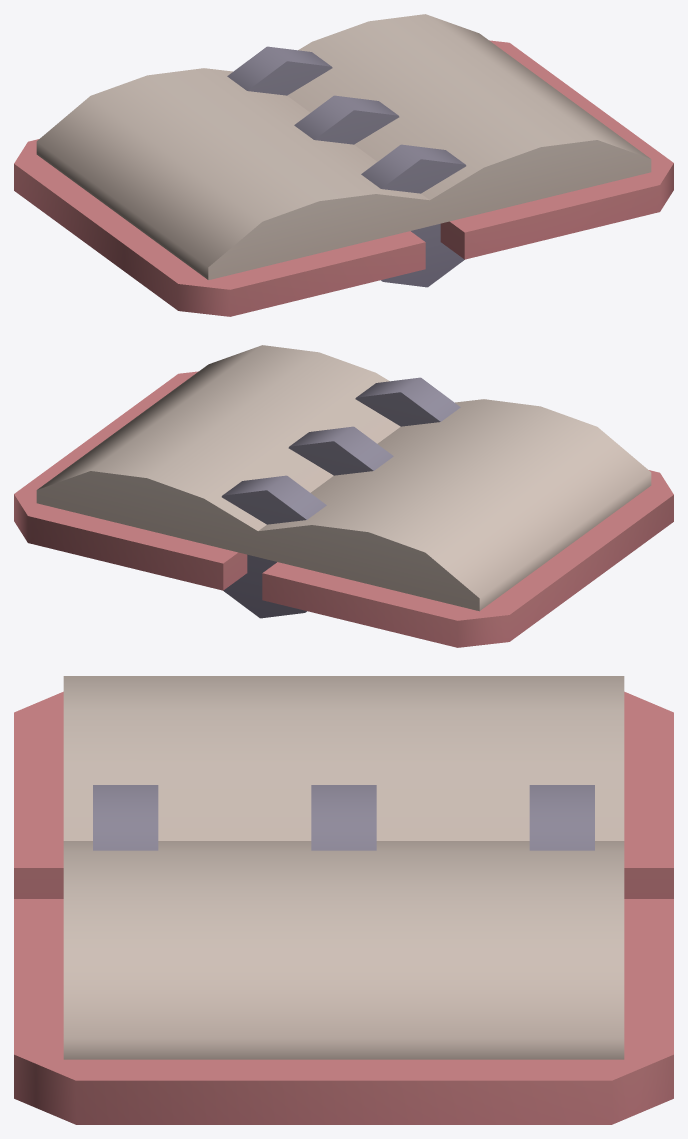
Rendered from notepad-open_0.glb.
The picture shows the model from 3 angles, top to bottom: view 1: azimuth 30°, elevation 25°; view 2: azimuth 150°, elevation 25°; view 3: azimuth 270°, elevation 25°; orthographic projection. The views are drawn at different scales.
Parts seen in each view (by area): view 1: notepad-open; view 2: notepad-open; view 3: notepad-open.
Part boxes in pixels (x1,y1,x2,y2): notepad-open: [14, 14, 673, 316]; notepad-open: [14, 345, 673, 647]; notepad-open: [14, 676, 673, 1124].
Size of the model in its own units: 0.3762 by 0.0942 by 0.266.
